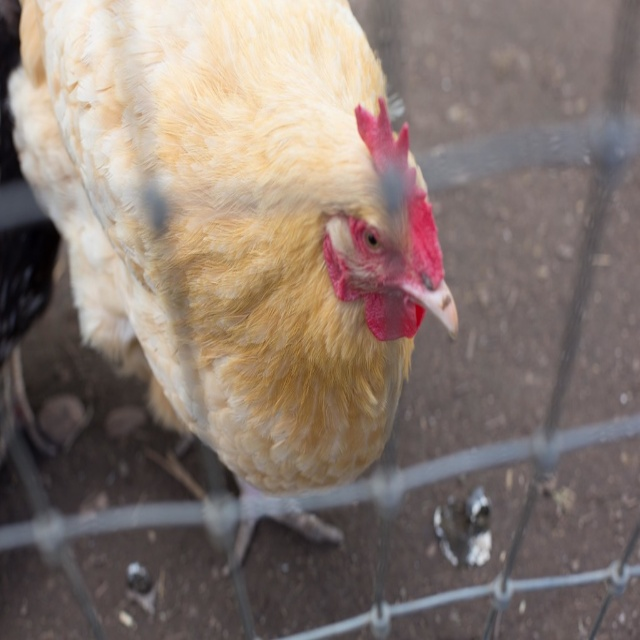Chicken: (0, 0, 464, 582)
